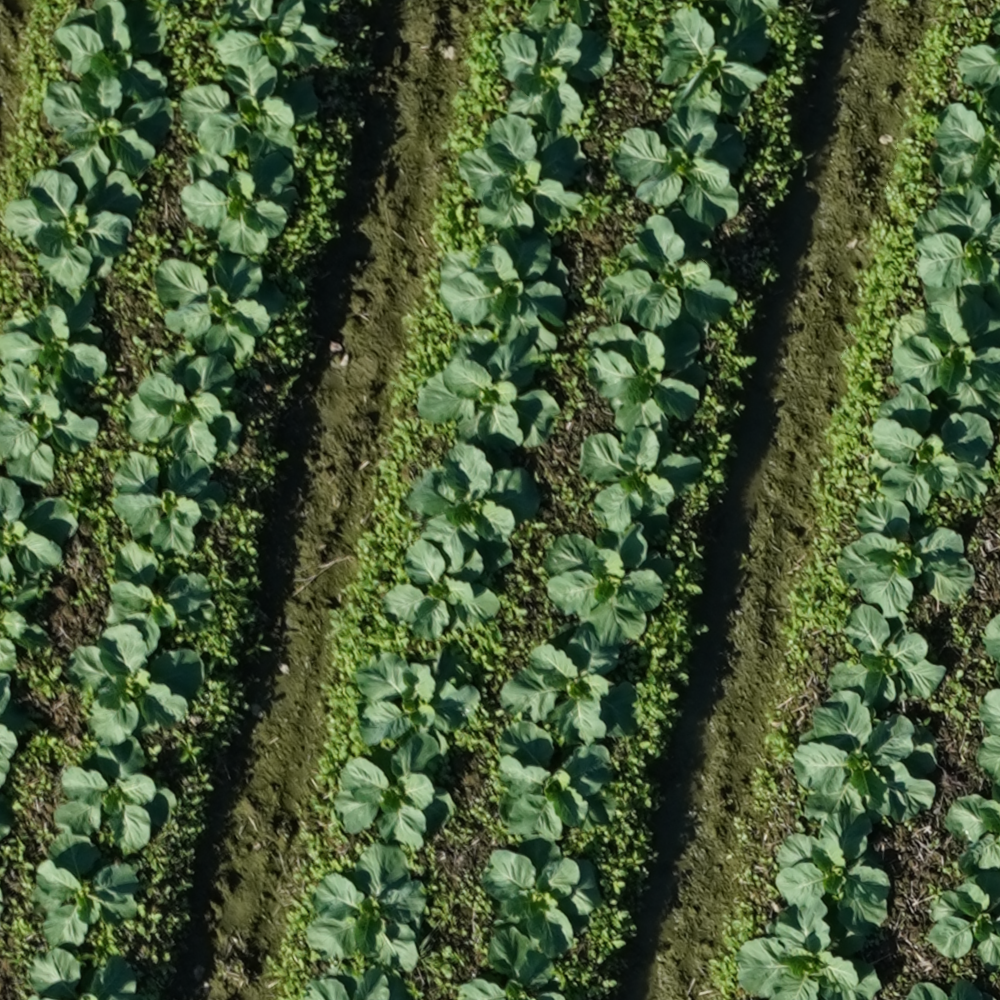Cabbage: (792, 691, 937, 826), (418, 331, 559, 463), (405, 444, 543, 573), (0, 169, 143, 291), (66, 624, 204, 747), (499, 626, 637, 746), (869, 378, 994, 510), (440, 226, 569, 353), (839, 496, 974, 617), (542, 522, 673, 646), (603, 208, 736, 330), (307, 841, 426, 973), (888, 285, 1000, 423), (54, 735, 178, 858), (482, 836, 602, 963), (734, 898, 882, 1000), (456, 115, 588, 229), (180, 53, 319, 161), (773, 806, 889, 935), (498, 719, 618, 842), (583, 320, 707, 438), (42, 81, 172, 193), (616, 115, 745, 226), (335, 736, 457, 852), (659, 5, 772, 130), (52, 0, 167, 119), (123, 353, 242, 466), (156, 254, 284, 359), (828, 597, 946, 708), (107, 449, 224, 559), (579, 427, 700, 533), (179, 150, 297, 257), (498, 22, 612, 132), (0, 364, 100, 489), (105, 541, 211, 657), (34, 832, 138, 950), (386, 536, 500, 642), (355, 652, 481, 747), (0, 281, 107, 389), (0, 478, 78, 597), (918, 190, 1000, 302), (217, 0, 337, 70), (460, 926, 566, 1000), (925, 875, 1000, 966), (28, 948, 138, 999)
